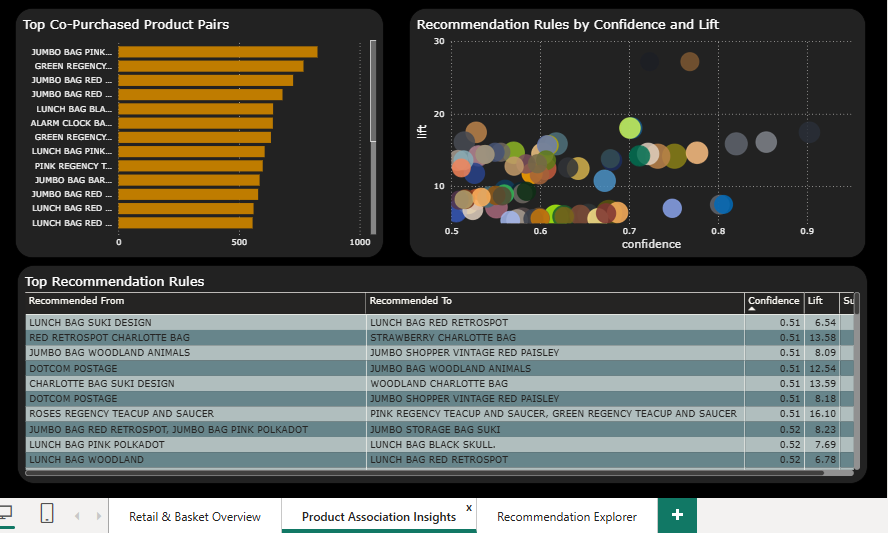

Layout of this report page (visuals, bound fields, positions):
{"tool":"powerbi","page":{"name":"Product Association Insights","canvas":[1280,720],"ordinal":1},"visuals":[{"type":"clusteredBarChart","title":"Top Co-Purchased Product Pairs","fields":{"Category":["product_pairs_sql.Pair_Label"],"Y":["Sum(product_pairs_sql.Pair_Invoice_Count)"]},"box":[23,14.4,531.4,360],"z":0},{"type":"scatterChart","title":"Recommendation Rules by Confidence and Lift","fields":{"X":["recommendation_rules.confidence"],"Y":["recommendation_rules.lift"],"Size":["Sum(recommendation_rules.support)"],"Series":["recommendation_rules.Rule_Label"]},"box":[590.4,14.4,658.1,360],"z":1000},{"type":"tableEx","title":"Top Recommendation Rules","fields":{"Values":["recommendation_rules.recommended_from","recommendation_rules.recommended_to","Sum(recommendation_rules.confidence)","Sum(recommendation_rules.lift)","Sum(recommendation_rules.support)"]},"box":[25.9,384.5,1225.4,315.4],"z":2000}]}

Visuals, with their boxes on the page's 1280x720 design canvas (x1, y1, x2, y2). These are canvas units, not pixel positions in the 888x533 screenshot, which may show the page scaled, cropped or inside an application window:
"Top Co-Purchased Product Pairs" clusteredBarChart: <box>23,14,554,374</box>
"Recommendation Rules by Confidence and Lift" scatterChart: <box>590,14,1248,374</box>
"Top Recommendation Rules" tableEx: <box>26,384,1251,700</box>
